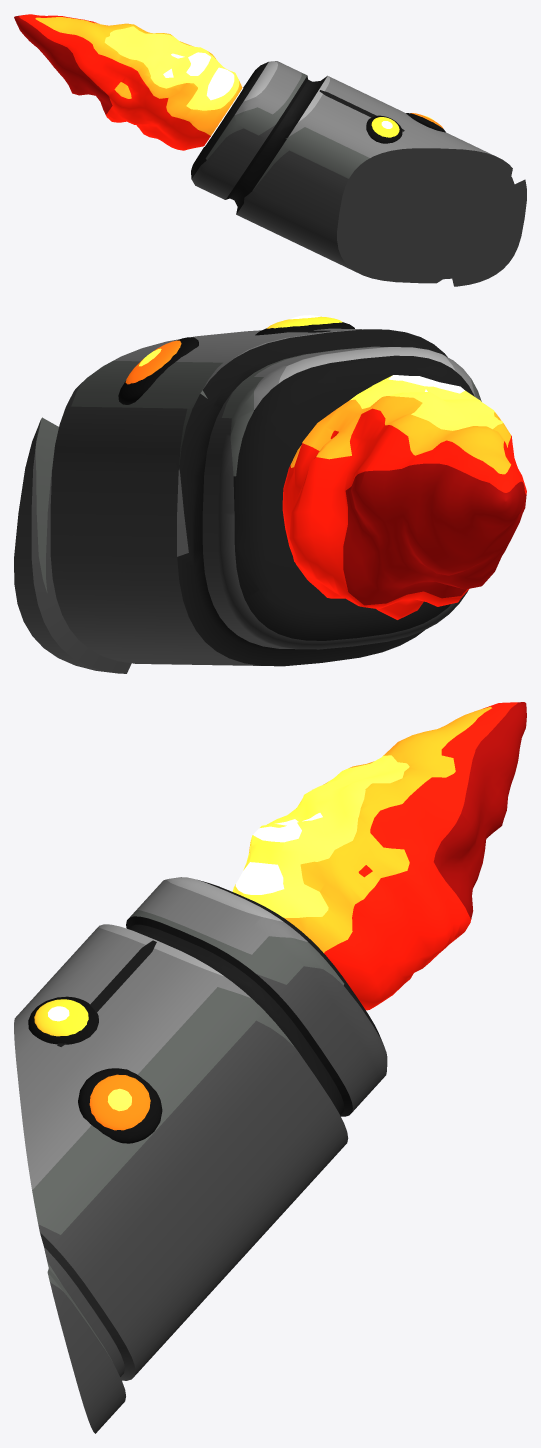
File: field_gun_barrel_55.glb
3 views of the same model, one above another, from view 1: azimuth 30°, elevation 25°; view 2: azimuth 150°, elevation 25°; view 3: azimuth 270°, elevation 25° (orthographic). The views are drawn at different scales.
Parts seen in each view (by area): view 1: field_gun_barrel_55; view 2: field_gun_barrel_55; view 3: field_gun_barrel_55.
Boxes of the visible parts, x1,y1,x2,y2 form: field_gun_barrel_55: (14, 14, 526, 286); field_gun_barrel_55: (14, 315, 526, 673); field_gun_barrel_55: (14, 702, 526, 1433).
Bounding box in the file's own units: 33.27 × 21.98 × 22.85.
